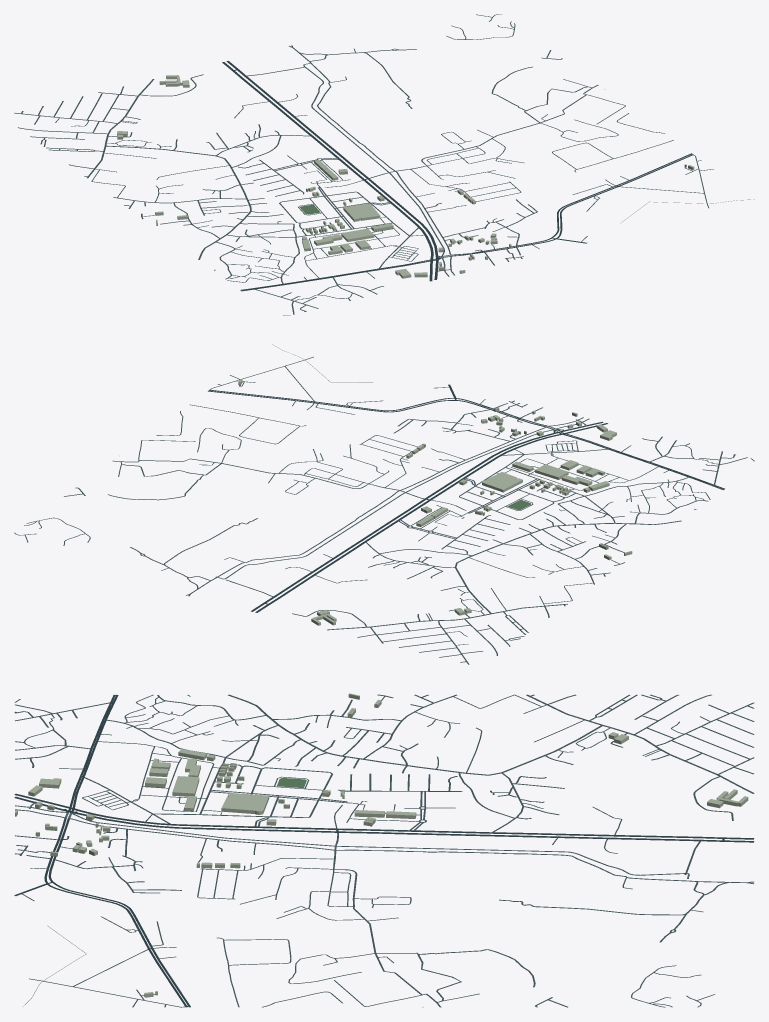
3 renders of one model, top to bottom at view 1: azimuth 30°, elevation 25°; view 2: azimuth 150°, elevation 25°; view 3: azimuth 270°, elevation 25°, orthographic. The views are drawn at different scales.
Visible parts, largest first — view 1: street, building, major; view 2: street, building, major; view 3: street, building, major.
Boxes of the visible parts, x1,y1,x2,y2 form: street: (14, 14, 713, 315); building: (117, 75, 694, 278); major: (222, 61, 693, 291); street: (14, 356, 754, 664); building: (238, 379, 632, 625); major: (208, 384, 724, 612); street: (14, 694, 754, 1007); building: (15, 693, 748, 997); major: (14, 694, 754, 1007).
Bounding box in the file's own units: 2004 × 10.57 × 2005.
